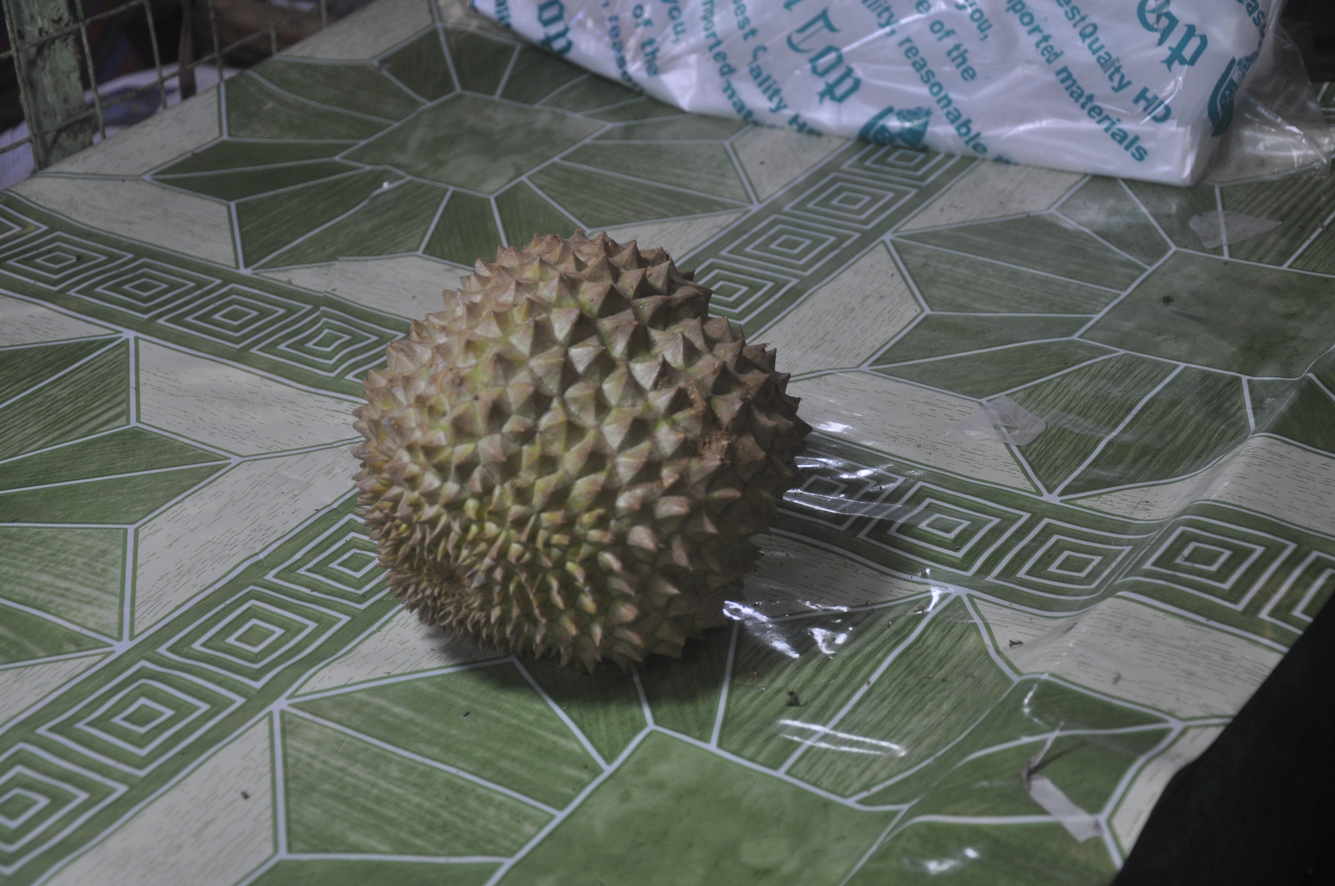mature: (354, 232, 810, 672)
